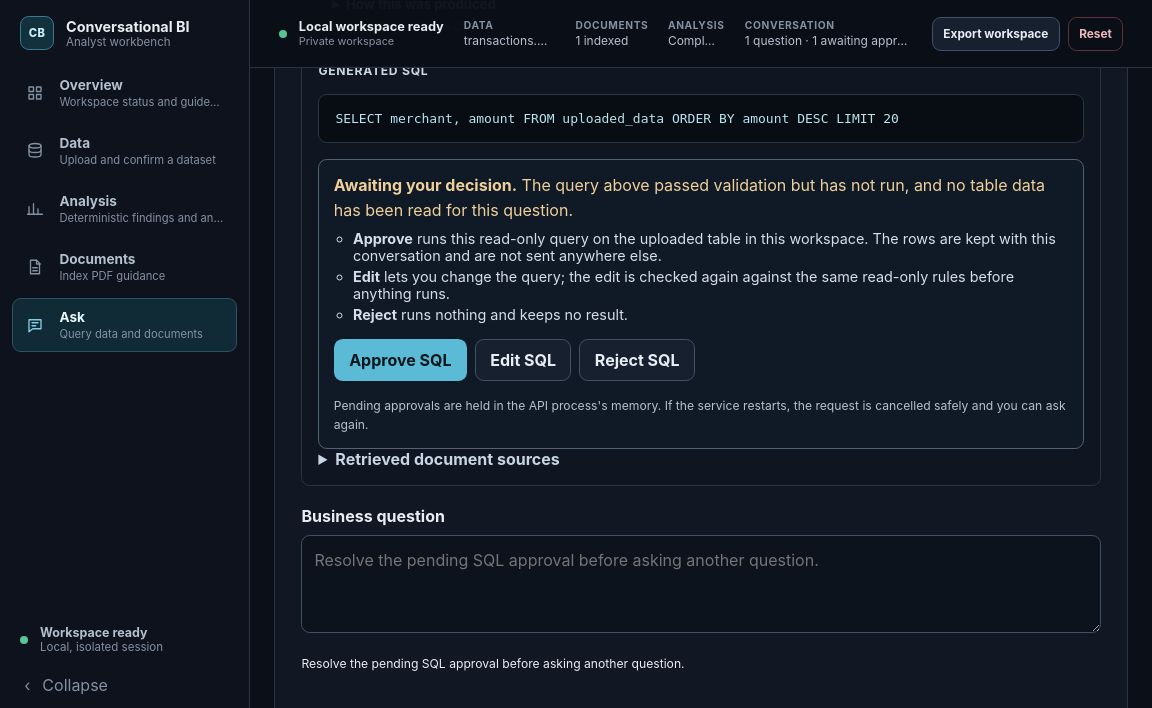
Scenario: SQL approval › approving shows the server's result and announces it once
(page scrolled)
Click the button "Approve SQL". click: {"x": 400, "y": 360}
box: [334,339,467,381]
(page scrolled)
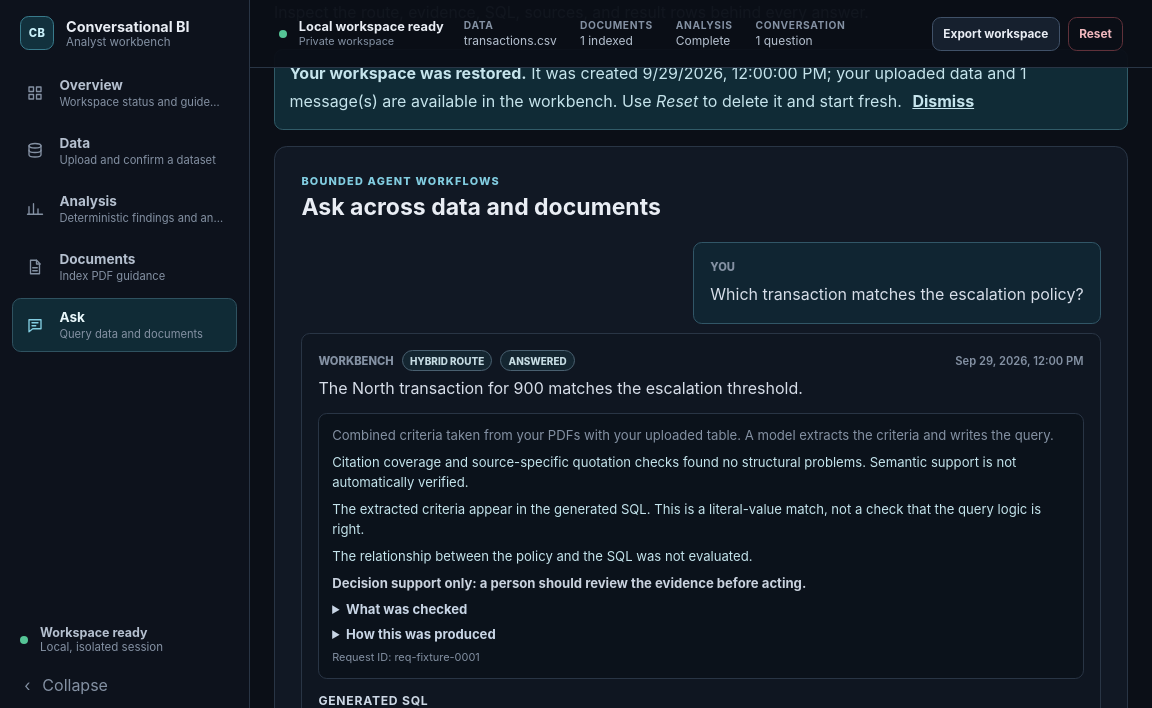
expect the button "Approve SQL" is gone: met
expect the text "Answered" is shown: met, box [500,350,575,371]
